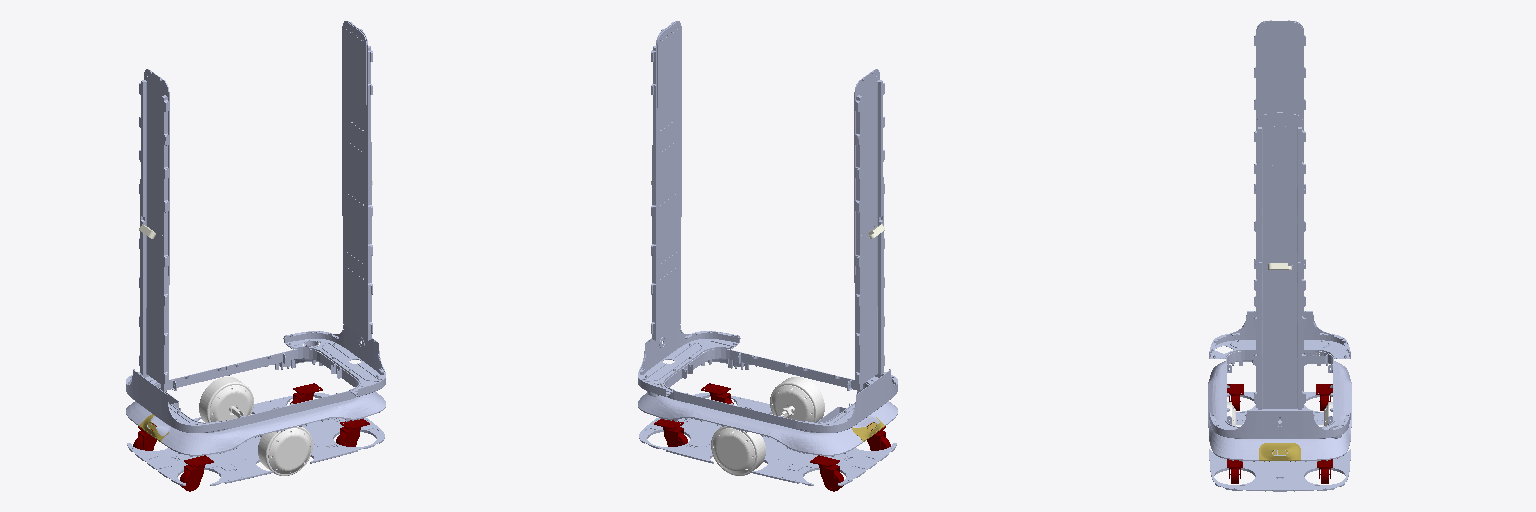
robot.urdf — buddi_v1_1_urdf002_feb25:
<?xml version="1.0" encoding="utf-8"?>
<!-- This URDF was automatically created by SolidWorks to URDF Exporter! Originally created by Stephen Brawner (brawner@gmail.com) 
     Commit Version: 1.6.0-4-g7f85cfe  Build Version: 1.6.7995.38578
     For more information, please see http://wiki.ros.org/sw_urdf_exporter -->
<robot
  name="buddi_v1_1_urdf002_feb25">
  <link
    name="base_link">
    <inertial>
      <origin
        xyz="0.00599665382886891 0.000469252034125613 0.534169826921973"
        rpy="0 0 0" />
      <mass
        value="8.54667041681296" />
      <inertia
        ixx="0.635392750794211"
        ixy="1.83594725495443E-05"
        ixz="-1.01161325219629E-05"
        iyy="0.688388901351783"
        iyz="-5.34420617120795E-05"
        izz="0.302798660676738" />
    </inertial>
    <visual>
      <origin
        xyz="0 0 0"
        rpy="0 0 0" />
      <geometry>
        <mesh
          filename="package://buddi_gazebo/meshes/v1.1/base_link.STL" />
      </geometry>
      <material
        name="">
        <color
          rgba="0.796078431372549 0.823529411764706 0.937254901960784 1" />
      </material>
    </visual>
    <collision>
      <origin
        xyz="0 0 0"
        rpy="0 0 0" />
      <geometry>
        <mesh
          filename="package://buddi_gazebo/meshes/v1.1/base_link.STL" />
      </geometry>
    </collision>
  </link>
  <link
    name="right_link">
    <inertial>
      <origin
        xyz="-1.25713803005449E-07 0.050092534003201 6.98756006506374E-06"
        rpy="0 0 0" />
      <mass
        value="1.90582648149752" />
      <inertia
        ixx="0.00470035831126743"
        ixy="1.03557004271693E-08"
        ixz="-4.7859950288531E-11"
        iyy="0.00847290142967573"
        iyz="-8.29367991815255E-07"
        izz="0.00469997521028495" />
    </inertial>
    <visual>
      <origin
        xyz="0 0 0"
        rpy="0 0 0" />
      <geometry>
        <mesh
          filename="package://buddi_gazebo/meshes/v1.1/right_link.STL" />
      </geometry>
      <material
        name="">
        <color
          rgba="1 1 1 1" />
      </material>
    </visual>
    <collision>
      <origin
        xyz="0 0 0"
        rpy="0 0 0" />
      <geometry>
        <mesh
          filename="package://buddi_gazebo/meshes/v1.1/right_link.STL" />
      </geometry>
    </collision>
  </link>
  <joint
    name="right_wheel"
    type="revolute">
    <origin
      xyz="0 -0.264 0.1002"
      rpy="0 0 0" />
    <parent
      link="base_link" />
    <child
      link="right_link" />
    <axis
      xyz="0 -1 0" />
    <limit
      lower="0"
      upper="0"
      effort="0"
      velocity="0" />
  </joint>
  <link
    name="left_link">
    <inertial>
      <origin
        xyz="-5.16403987471405E-09 -0.0494652482865064 -4.76340613389525E-06"
        rpy="0 0 0" />
      <mass
        value="1.8921998817572" />
      <inertia
        ixx="0.00469770769377073"
        ixy="-6.2283353893799E-10"
        ixz="4.78599560998444E-11"
        iyy="0.00846995017161347"
        iyz="-8.29367991778965E-07"
        izz="0.00469732441759474" />
    </inertial>
    <visual>
      <origin
        xyz="0 0 0"
        rpy="0 0 0" />
      <geometry>
        <mesh
          filename="package://buddi_gazebo/meshes/v1.1/left_link.STL" />
      </geometry>
      <material
        name="">
        <color
          rgba="1 1 1 1" />
      </material>
    </visual>
    <collision>
      <origin
        xyz="0 0 0"
        rpy="0 0 0" />
      <geometry>
        <mesh
          filename="package://buddi_gazebo/meshes/v1.1/left_link.STL" />
      </geometry>
    </collision>
  </link>
  <joint
    name="left_joint"
    type="revolute">
    <origin
      xyz="0 0.264 0.1002"
      rpy="0 0 0" />
    <parent
      link="base_link" />
    <child
      link="left_link" />
    <axis
      xyz="0 1 0" />
    <limit
      lower="0"
      upper="0"
      effort="0"
      velocity="0" />
  </joint>
  <link
    name="caster_fl_link">
    <inertial>
      <origin
        xyz="0.00967137427256998 1.11022302462516E-16 0.017467017982218"
        rpy="0 0 0" />
      <mass
        value="0.210295532086898" />
      <inertia
        ixx="9.40460454958532E-05"
        ixy="3.70178701434447E-20"
        ixz="-6.47409383365322E-06"
        iyy="0.000143356854559627"
        iyz="5.73825265970791E-19"
        izz="0.000109893916312989" />
    </inertial>
    <visual>
      <origin
        xyz="0 0 0"
        rpy="0 0 0" />
      <geometry>
        <mesh
          filename="package://buddi_gazebo/meshes/v1.1/caster_fl_link.STL" />
      </geometry>
      <material
        name="">
        <color
          rgba="0.501960784313725 0 0 1" />
      </material>
    </visual>
    <collision>
      <origin
        xyz="0 0 0"
        rpy="0 0 0" />
      <geometry>
        <mesh
          filename="package://buddi_gazebo/meshes/v1.1/caster_fl_link.STL" />
      </geometry>
    </collision>
  </link>
  <joint
    name="caster_fl_joint"
    type="fixed">
    <origin
      xyz="0.2825 0.172 0.0377"
      rpy="0 0 0" />
    <parent
      link="base_link" />
    <child
      link="caster_fl_link" />
    <axis
      xyz="0 0 0" />
  </joint>
  <link
    name="caster_fr_link">
    <inertial>
      <origin
        xyz="0.00967139886766821 -8.32667268468867E-17 0.0174670323629414"
        rpy="0 0 0" />
      <mass
        value="0.210295705709257" />
      <inertia
        ixx="9.40461308141003E-05"
        ixy="-5.19779545546498E-20"
        ixz="-6.47407055748393E-06"
        iyy="0.00014335693808301"
        iyz="-3.96446963493578E-19"
        izz="0.000109894004250019" />
    </inertial>
    <visual>
      <origin
        xyz="0 0 0"
        rpy="0 0 0" />
      <geometry>
        <mesh
          filename="package://buddi_gazebo/meshes/v1.1/caster_fr_link.STL" />
      </geometry>
      <material
        name="">
        <color
          rgba="0.501960784313725 0 0 1" />
      </material>
    </visual>
    <collision>
      <origin
        xyz="0 0 0"
        rpy="0 0 0" />
      <geometry>
        <mesh
          filename="package://buddi_gazebo/meshes/v1.1/caster_fr_link.STL" />
      </geometry>
    </collision>
  </link>
  <joint
    name="caster_fr_joint"
    type="fixed">
    <origin
      xyz="0.2825 -0.172 0.0377"
      rpy="0 0 0" />
    <parent
      link="base_link" />
    <child
      link="caster_fr_link" />
    <axis
      xyz="0 0 0" />
  </joint>
  <link
    name="caster_bl_link">
    <inertial>
      <origin
        xyz="0.00967137427256998 8.32667268468867E-17 0.017467017982218"
        rpy="0 0 0" />
      <mass
        value="0.210295532086898" />
      <inertia
        ixx="9.40460454958532E-05"
        ixy="3.72991451940804E-20"
        ixz="-6.47409383365321E-06"
        iyy="0.000143356854559627"
        iyz="5.82283263786648E-19"
        izz="0.000109893916312989" />
    </inertial>
    <visual>
      <origin
        xyz="0 0 0"
        rpy="0 0 0" />
      <geometry>
        <mesh
          filename="package://buddi_gazebo/meshes/v1.1/caster_bl_link.STL" />
      </geometry>
      <material
        name="">
        <color
          rgba="0.501960784313725 0 0 1" />
      </material>
    </visual>
    <collision>
      <origin
        xyz="0 0 0"
        rpy="0 0 0" />
      <geometry>
        <mesh
          filename="package://buddi_gazebo/meshes/v1.1/caster_bl_link.STL" />
      </geometry>
    </collision>
  </link>
  <joint
    name="caster_bl_joint"
    type="fixed">
    <origin
      xyz="-0.377500000000035 0.170508005847294 0.0376999999999967"
      rpy="0 0 0" />
    <parent
      link="base_link" />
    <child
      link="caster_bl_link" />
    <axis
      xyz="0 0 0" />
  </joint>
  <link
    name="caster_br_link">
    <inertial>
      <origin
        xyz="0.00967139886766816 -5.55111512312578E-17 0.0174670323629413"
        rpy="0 0 0" />
      <mass
        value="0.210295705709256" />
      <inertia
        ixx="9.40461308141003E-05"
        ixy="-8.20738357175857E-20"
        ixz="-6.47407055748393E-06"
        iyy="0.00014335693808301"
        iyz="-3.72067602154101E-19"
        izz="0.000109894004250019" />
    </inertial>
    <visual>
      <origin
        xyz="0 0 0"
        rpy="0 0 0" />
      <geometry>
        <mesh
          filename="package://buddi_gazebo/meshes/v1.1/caster_br_link.STL" />
      </geometry>
      <material
        name="">
        <color
          rgba="0.501960784313725 0 0 1" />
      </material>
    </visual>
    <collision>
      <origin
        xyz="0 0 0"
        rpy="0 0 0" />
      <geometry>
        <mesh
          filename="package://buddi_gazebo/meshes/v1.1/caster_br_link.STL" />
      </geometry>
    </collision>
  </link>
  <joint
    name="caster_br_joint"
    type="fixed">
    <origin
      xyz="-0.3775 -0.17051 0.0377"
      rpy="0 0 0" />
    <parent
      link="base_link" />
    <child
      link="caster_br_link" />
    <axis
      xyz="0 0 0" />
  </joint>
  <link
    name="lidar_for_link">
    <inertial>
      <origin
        xyz="1.0953530577007E-07 -2.9531777856473E-09 0.00648420690654422"
        rpy="0 0 0" />
      <mass
        value="0.00889251291577236" />
      <inertia
        ixx="3.5677905495559E-06"
        ixy="1.05263088117619E-11"
        ixz="1.0986148660476E-11"
        iyy="3.56779069928039E-06"
        iyz="-3.09089859321299E-13"
        izz="4.52194207995464E-06" />
    </inertial>
    <visual>
      <origin
        xyz="0 0 0"
        rpy="0 0 0" />
      <geometry>
        <mesh
          filename="package://buddi_gazebo/meshes/v1.1/lidar_for_link.STL" />
      </geometry>
      <material
        name="">
        <color
          rgba="0.792156862745098 0.819607843137255 0.929411764705882 1" />
      </material>
    </visual>
    <collision>
      <origin
        xyz="0 0 0"
        rpy="0 0 0" />
      <geometry>
        <mesh
          filename="package://buddi_gazebo/meshes/v1.1/lidar_for_link.STL" />
      </geometry>
    </collision>
  </link>
  <joint
    name="lidar_for_joint"
    type="fixed">
    <origin
      xyz="0.3592052397081 0.2139999894461 0.2553987783911"
      rpy="3.14159265358979 0 0.78539816339766" />
    <parent
      link="base_link" />
    <child
      link="lidar_for_link" />
    <axis
      xyz="0 0 0" />
  </joint>
  <link
    name="lidar_b_link">
    <inertial>
      <origin
        xyz="1.09625971467242E-07 -2.59167651228687E-09 0.00648420695813953"
        rpy="0 0 0" />
      <mass
        value="0.00889251287474018" />
      <inertia
        ixx="3.56779052934972E-06"
        ixy="1.05384626511999E-11"
        ixz="1.09957815361059E-11"
        iyy="3.56779068374264E-06"
        iyz="-2.70682177792509E-13"
        izz="4.52194205519388E-06" />
    </inertial>
    <visual>
      <origin
        xyz="0 0 0"
        rpy="0 0 0" />
      <geometry>
        <mesh
          filename="package://buddi_gazebo/meshes/v1.1/lidar_b_link.STL" />
      </geometry>
      <material
        name="">
        <color
          rgba="0.792156862745098 0.819607843137255 0.929411764705882 1" />
      </material>
    </visual>
    <collision>
      <origin
        xyz="0 0 0"
        rpy="0 0 0" />
      <geometry>
        <mesh
          filename="package://buddi_gazebo/meshes/v1.1/lidar_b_link.STL" />
      </geometry>
    </collision>
  </link>
  <joint
    name="lidar_b_joint"
    type="fixed">
    <origin
      xyz="-0.35921 -0.214 0.2554"
      rpy="-3.1416 0 -2.3562" />
    <parent
      link="base_link" />
    <child
      link="lidar_b_link" />
    <axis
      xyz="0 0 0" />
  </joint>
  <link
    name="rgbd_bd_link">
    <inertial>
      <origin
        xyz="0.0162264261175118 0.00393099014201237 1.3869699680211E-05"
        rpy="0 0 0" />
      <mass
        value="0.0514895248416269" />
      <inertia
        ixx="0.000141516741983693"
        ixy="-7.57354809363005E-06"
        ixz="-6.98779094749386E-08"
        iyy="0.000123294094850715"
        iyz="1.17821536534292E-07"
        izz="2.74019094074866E-05" />
    </inertial>
    <visual>
      <origin
        xyz="0 0 0"
        rpy="0 0 0" />
      <geometry>
        <mesh
          filename="package://buddi_gazebo/meshes/v1.1/rgbd_bd_link.STL" />
      </geometry>
      <material
        name="">
        <color
          rgba="0.796078431372549 0.823529411764706 0.937254901960784 1" />
      </material>
    </visual>
    <collision>
      <origin
        xyz="0 0 0"
        rpy="0 0 0" />
      <geometry>
        <mesh
          filename="package://buddi_gazebo/meshes/v1.1/rgbd_bd_link.STL" />
      </geometry>
    </collision>
  </link>
  <joint
    name="rgbd_bd_joint"
    type="fixed">
    <origin
      xyz="-0.44026 0 0.202"
      rpy="1.5708 0.6545 0" />
    <parent
      link="base_link" />
    <child
      link="rgbd_bd_link" />
    <axis
      xyz="0 0 0" />
  </joint>
  <link
    name="rgbd_bu_link">
    <inertial>
      <origin
        xyz="-0.0121749689613142 0.00166764283741136 3.33066907387547E-16"
        rpy="0 0 0" />
      <mass
        value="0.0499436424701567" />
      <inertia
        ixx="3.03099978294818E-05"
        ixy="6.18417155628908E-07"
        ixz="1.6940658945086E-21"
        iyy="5.03370369341803E-06"
        iyz="-1.16322778687462E-20"
        izz="3.03689752725919E-05" />
    </inertial>
    <visual>
      <origin
        xyz="0 0 0"
        rpy="0 0 0" />
      <geometry>
        <mesh
          filename="package://buddi_gazebo/meshes/v1.1/rgbd_bu_link.STL" />
      </geometry>
      <material
        name="">
        <color
          rgba="1 1 0.945098039215686 1" />
      </material>
    </visual>
    <collision>
      <origin
        xyz="0 0 0"
        rpy="0 0 0" />
      <geometry>
        <mesh
          filename="package://buddi_gazebo/meshes/v1.1/rgbd_bu_link.STL" />
      </geometry>
    </collision>
  </link>
  <joint
    name="rgbd_bu_joint"
    type="fixed">
    <origin
      xyz="-0.46587 0 0.98471"
      rpy="0 0.98611 3.1416" />
    <parent
      link="base_link" />
    <child
      link="rgbd_bu_link" />
    <axis
      xyz="0 0 0" />
  </joint>
  <link
    name="rgbd_fd_link">
    <inertial>
      <origin
        xyz="0.353400151588005 1.63186252329502E-07 0.26266590818846"
        rpy="0 0 0" />
      <mass
        value="0.102688722687071" />
      <inertia
        ixx="0.000262243563965049"
        ixy="-2.59737049261011E-08"
        ixz="-9.57828128555277E-06"
        iyy="5.4802544259148E-05"
        iyz="-1.78947433087215E-08"
        izz="0.000267375275843269" />
    </inertial>
    <visual>
      <origin
        xyz="0 0 0"
        rpy="0 0 0" />
      <geometry>
        <mesh
          filename="package://buddi_gazebo/meshes/v1.1/rgbd_fd_link.STL" />
      </geometry>
      <material
        name="">
        <color
          rgba="0.749019607843137 0.67843137254902 0.352941176470588 1" />
      </material>
    </visual>
    <collision>
      <origin
        xyz="0 0 0"
        rpy="0 0 0" />
      <geometry>
        <mesh
          filename="package://buddi_gazebo/meshes/v1.1/rgbd_fd_link.STL" />
      </geometry>
    </collision>
  </link>
  <joint
    name="rgbd_fd_joint"
    type="fixed">
    <origin
      xyz="0.44027 0 0.202"
      rpy="0 0.65456 -3.1416" />
    <parent
      link="base_link" />
    <child
      link="rgbd_fd_link" />
    <axis
      xyz="0 0 0" />
  </joint>
  <link
    name="rgbd_fu_link">
    <inertial>
      <origin
        xyz="-0.0121749689613144 -0.00166764283741135 1.11022302462516E-16"
        rpy="0 0 0" />
      <mass
        value="0.049943642470157" />
      <inertia
        ixx="3.03099978294819E-05"
        ixy="-6.18417155628911E-07"
        ixz="-5.0821976835258E-21"
        iyy="5.03370369341809E-06"
        iyz="-3.59872889703051E-21"
        izz="3.0368975272592E-05" />
    </inertial>
    <visual>
      <origin
        xyz="0 0 0"
        rpy="0 0 0" />
      <geometry>
        <mesh
          filename="package://buddi_gazebo/meshes/v1.1/rgbd_fu_link.STL" />
      </geometry>
      <material
        name="">
        <color
          rgba="1 1 0.945098039215686 1" />
      </material>
    </visual>
    <collision>
      <origin
        xyz="0 0 0"
        rpy="0 0 0" />
      <geometry>
        <mesh
          filename="package://buddi_gazebo/meshes/v1.1/rgbd_fu_link.STL" />
      </geometry>
    </collision>
  </link>
  <joint
    name="rgbd_fu_joint"
    type="fixed">
    <origin
      xyz="0.46587 0 0.98471"
      rpy="0 0.98611 0" />
    <parent
      link="base_link" />
    <child
      link="rgbd_fu_link" />
    <axis
      xyz="0 0 0" />
  </joint>
</robot>

--- Render facts (derived) ---
The picture shows the robot from 3 angles, left to right: view 1: azimuth 30°, elevation 25°; view 2: azimuth 150°, elevation 25°; view 3: azimuth 270°, elevation 25°; orthographic projection.
Robot: buddi_v1_1_urdf002_feb25 — 13 links, 12 joints (2 revolute, 10 fixed); root link base_link; default pose: every joint at zero.
Visible links, largest first — view 1: base_link, right_link, left_link, caster_br_link, caster_fr_link; view 2: base_link, left_link, right_link, caster_bl_link, caster_fl_link; view 3: base_link, rgbd_fd_link.
Boxes of the visible links, x1,y1,x2,y2 form: base_link: [126, 21, 385, 485]; right_link: [258, 426, 312, 475]; left_link: [199, 377, 253, 422]; caster_br_link: [180, 455, 213, 491]; caster_fr_link: [336, 419, 369, 446]; base_link: [638, 21, 897, 485]; left_link: [711, 426, 765, 475]; right_link: [770, 377, 824, 422]; caster_bl_link: [810, 455, 843, 491]; caster_fl_link: [654, 419, 687, 446]; base_link: [1208, 20, 1351, 491]; rgbd_fd_link: [1259, 443, 1300, 461].
Bounding box of the posed robot: 0.9518 × 0.55 × 1.62 m (x, y, z).
Meshes: 13 distinct files referenced, 12 mesh visuals loaded (12 binary STL); not drawn: 1 (reference not matched to a file when rendering).
